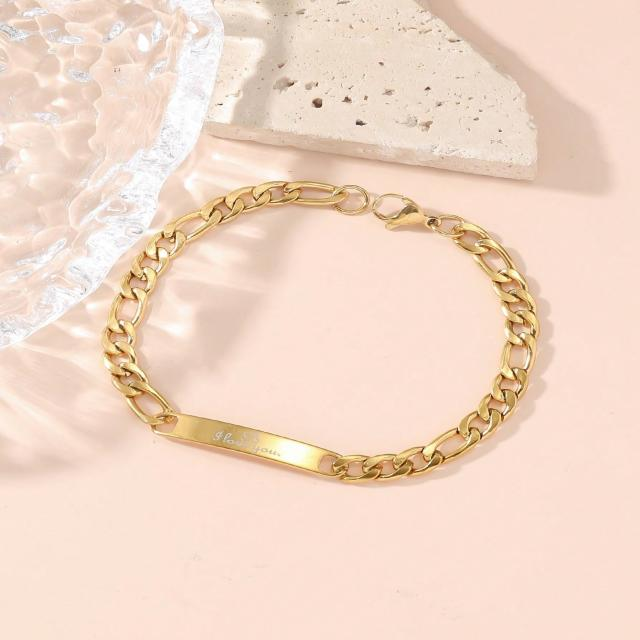bracelet: (70, 126, 634, 491)
